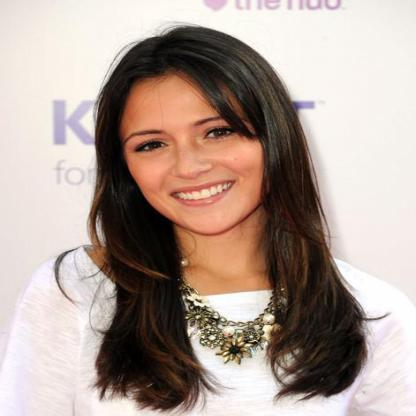long-hair: (74, 235, 353, 284)
